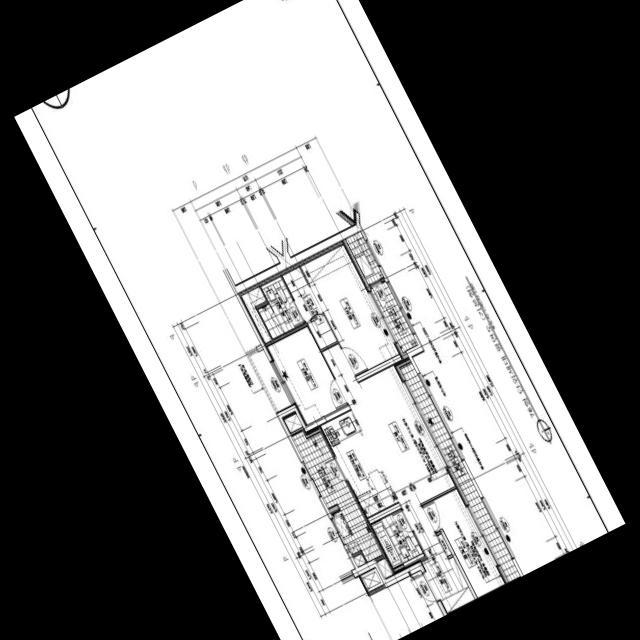background: (14, 0, 626, 640)
space_balconi: (400, 362, 520, 581), (292, 431, 382, 561), (371, 281, 417, 351), (345, 231, 384, 283)
space_bedroom: (299, 240, 400, 374), (423, 488, 506, 597), (266, 326, 347, 425)
space_dressroom: (280, 263, 337, 349)
space_front: (422, 551, 475, 612)
space_kitchen: (319, 410, 399, 518)
space_living_room: (322, 343, 456, 558)
space_other: (238, 283, 272, 343), (282, 411, 303, 432), (438, 533, 452, 555), (377, 558, 393, 577), (354, 553, 366, 566)
space_toilet: (370, 509, 425, 568), (258, 272, 304, 338)
